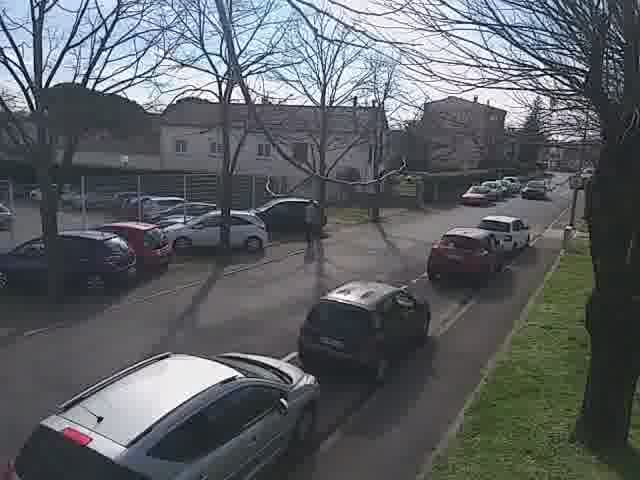persona: (300, 192, 322, 250)
